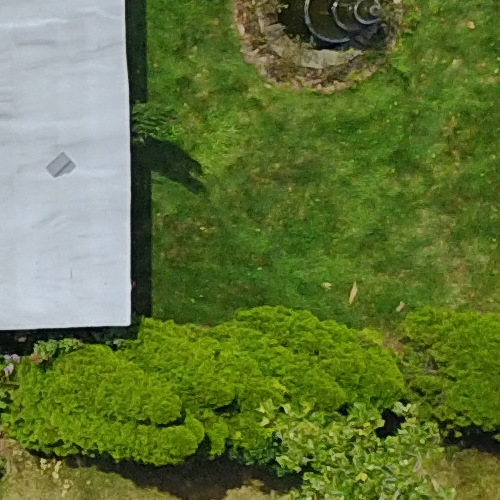fountain: (273, 1, 393, 54)
